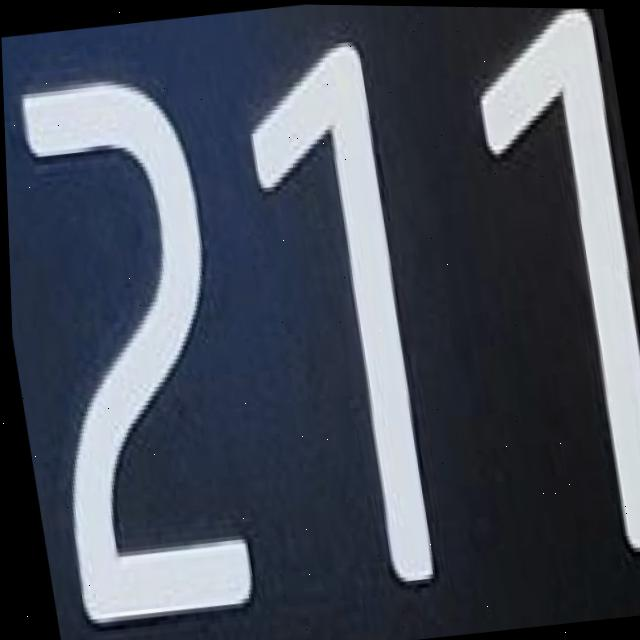character: (2, 57, 268, 640), (231, 26, 452, 607), (461, 7, 640, 568)
